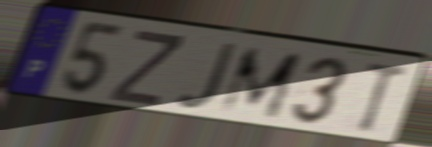3: (288, 55, 348, 127)
5: (58, 18, 129, 101)
J: (174, 41, 242, 113)
M: (215, 46, 306, 122)
T: (357, 59, 413, 134)
Z: (106, 27, 187, 109)
